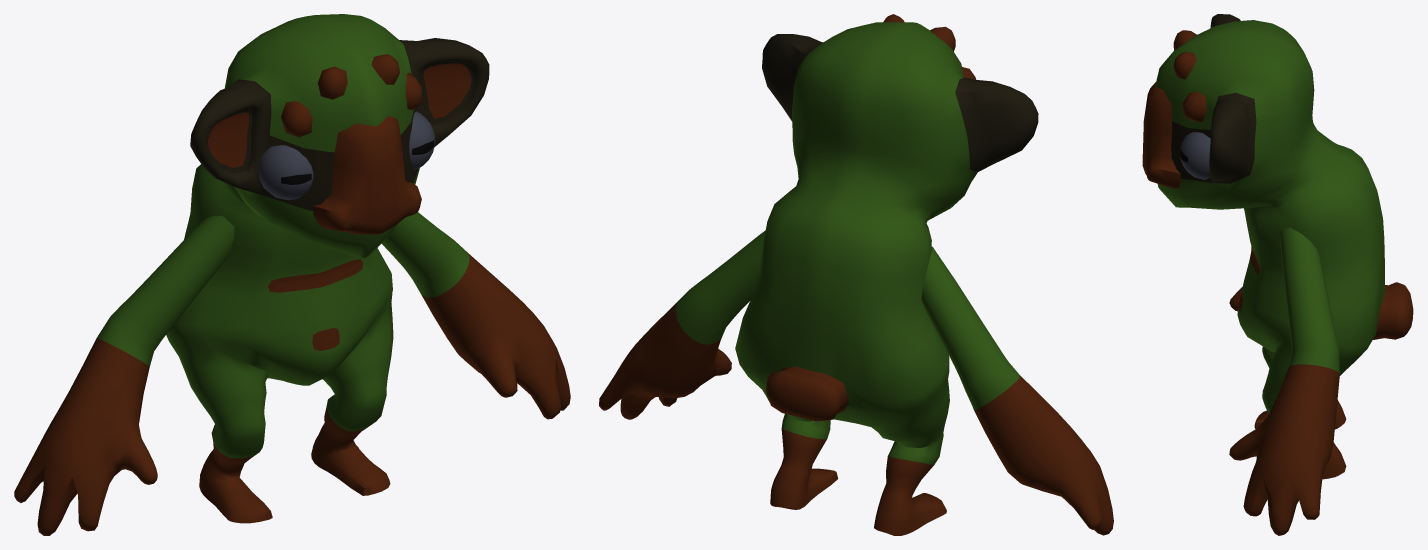
The model's file is Monkroose.obj.
3 renders of one model, left to right at view 1: azimuth 30°, elevation 25°; view 2: azimuth 150°, elevation 25°; view 3: azimuth 270°, elevation 25°, orthographic. The views are drawn at different scales.
Parts seen in each view (by area): view 1: Monkroose_Cube.110; view 2: Monkroose_Cube.110; view 3: Monkroose_Cube.110.
Part boxes in pixels (<box>): Monkroose_Cube.110: <box>14,14,570,535</box>; Monkroose_Cube.110: <box>599,14,1113,535</box>; Monkroose_Cube.110: <box>1142,14,1413,535</box>.
Size of the model in its own units: 3.23 by 2.79 by 1.63.
